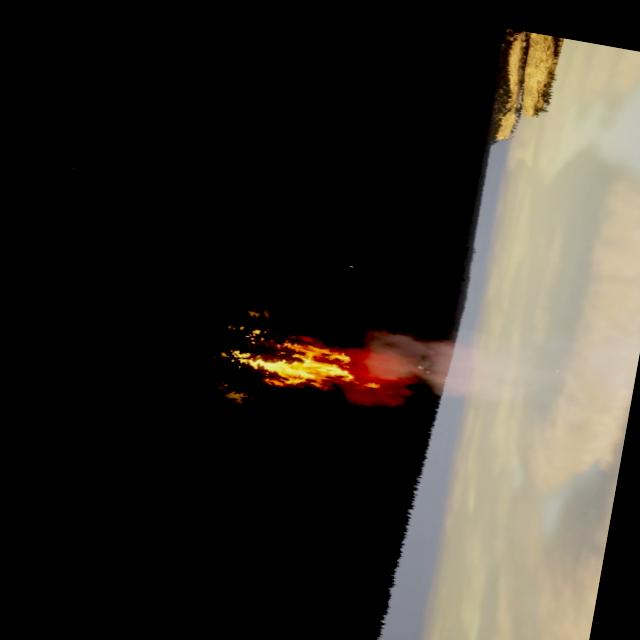fire: (227, 327, 370, 410)
smoke: (330, 316, 506, 426)
